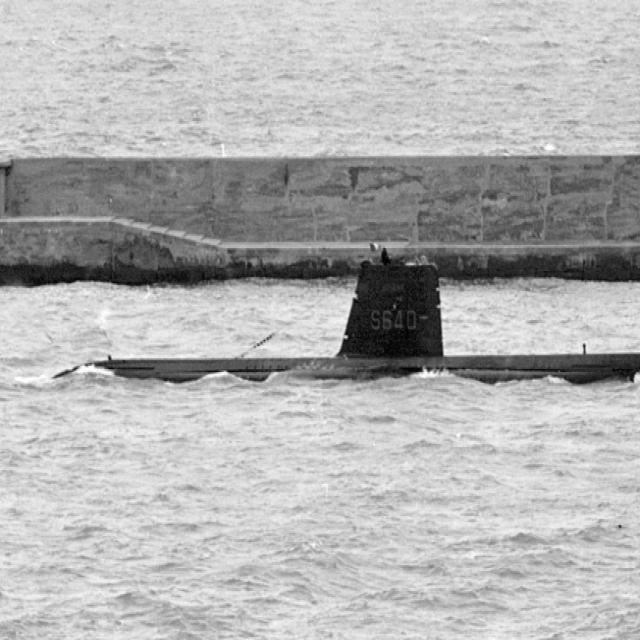submarine: (55, 271, 640, 378)
